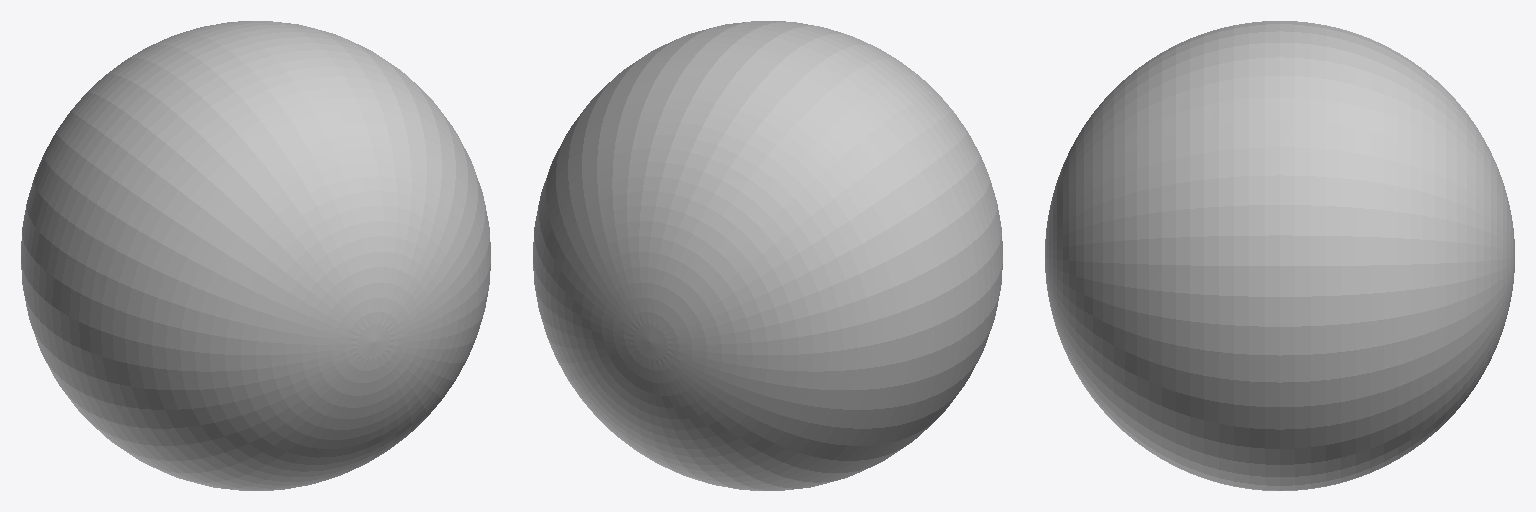
The model's file is planet.obj.
3 renders of one model, left to right at view 1: azimuth 30°, elevation 25°; view 2: azimuth 150°, elevation 25°; view 3: azimuth 270°, elevation 25°, orthographic.
Visible parts, largest first — view 1: Sphere; view 2: Sphere; view 3: Sphere.
Part boxes in pixels (x1,y1,x2,y2): Sphere: (21, 21, 490, 490); Sphere: (533, 21, 1002, 490); Sphere: (1045, 21, 1514, 490).
Size of the model in its own units: 1 by 1 by 1.